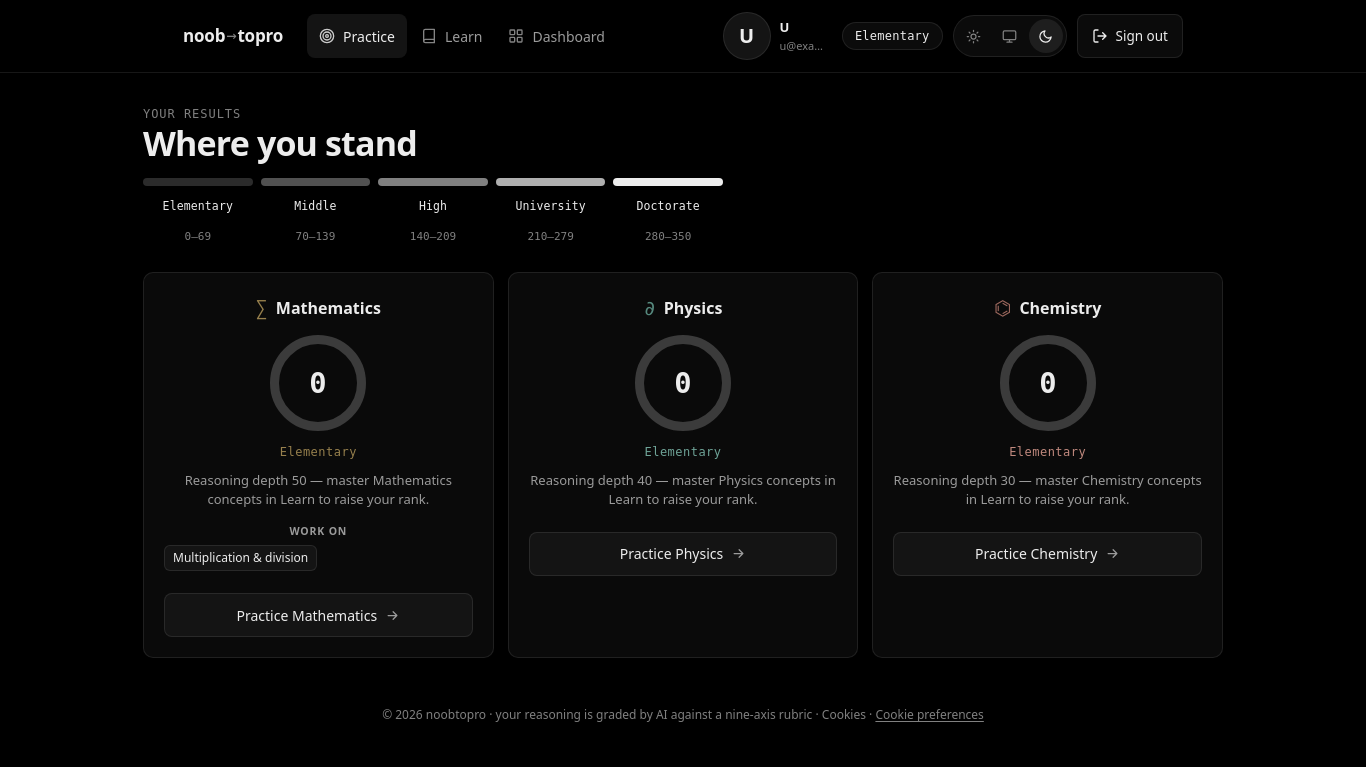
Test: Noobtopro — 'Learn this' opens the prepared library concept (draws from the curriculum) › opens the resolved concept's PREPARED page (label + 'Practice this concept'), never the old generator
Click the button "Dashboard": (557, 36) [496,14,617,58]
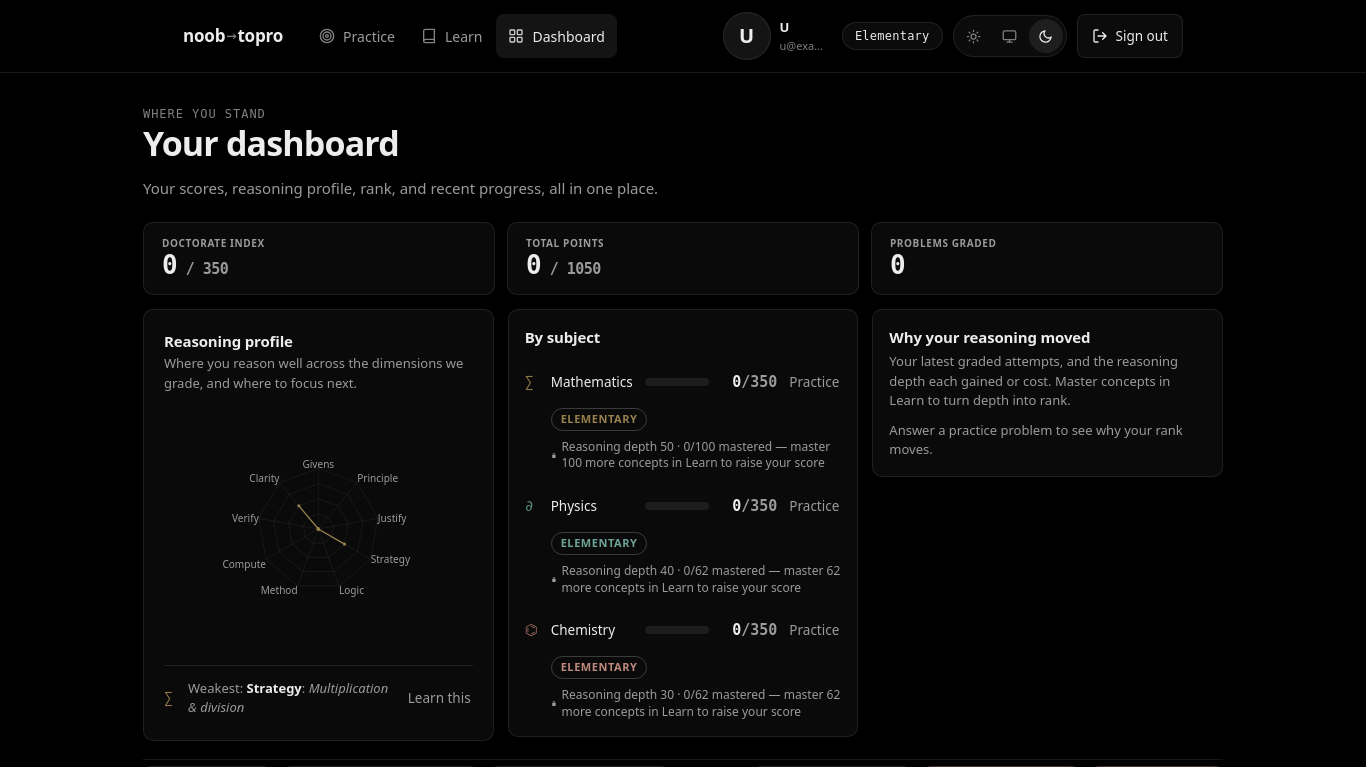
# The radar panel surfaces the weak concept with a "Learn this" action.
Click the button "Learn this": (439, 698) [406,676,473,720]
(page scrolled)
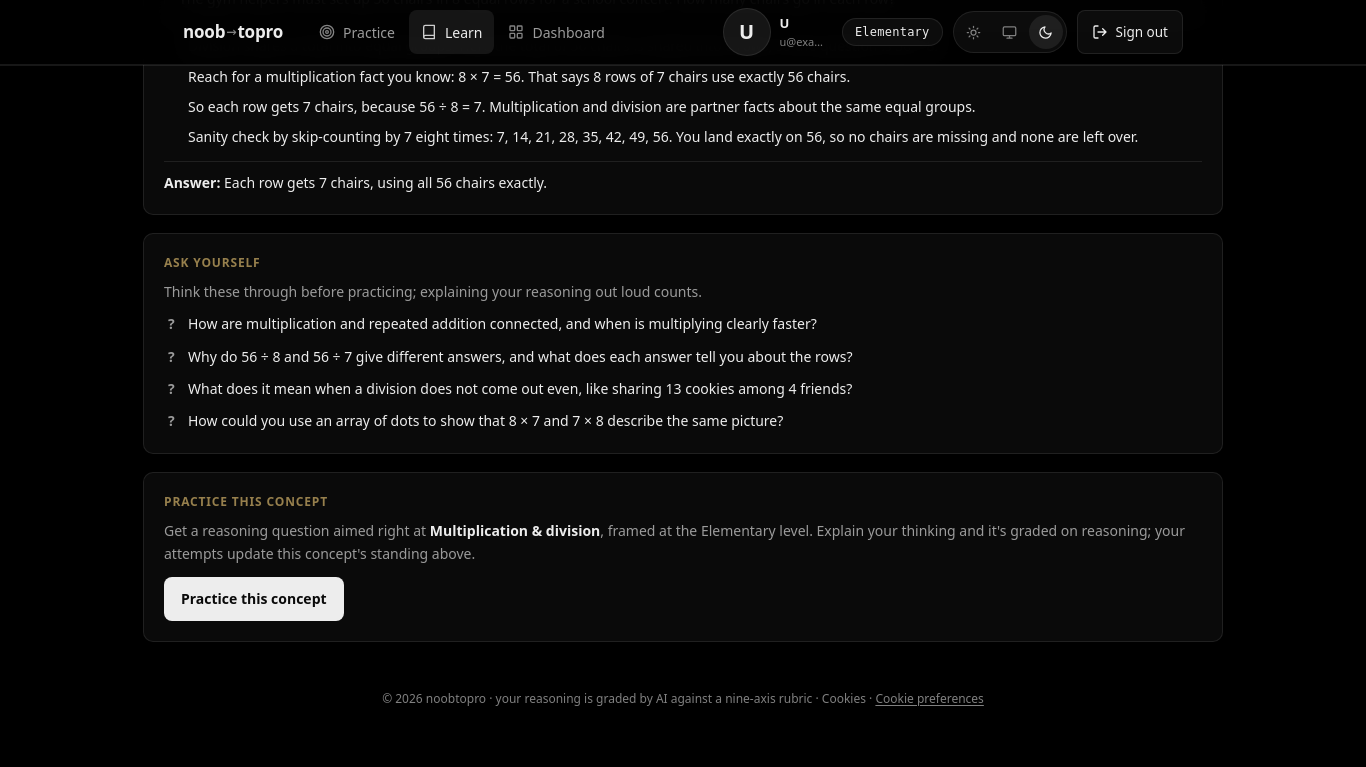
Check: the button "Practice this concept" is shown, box [164,577,344,621]
